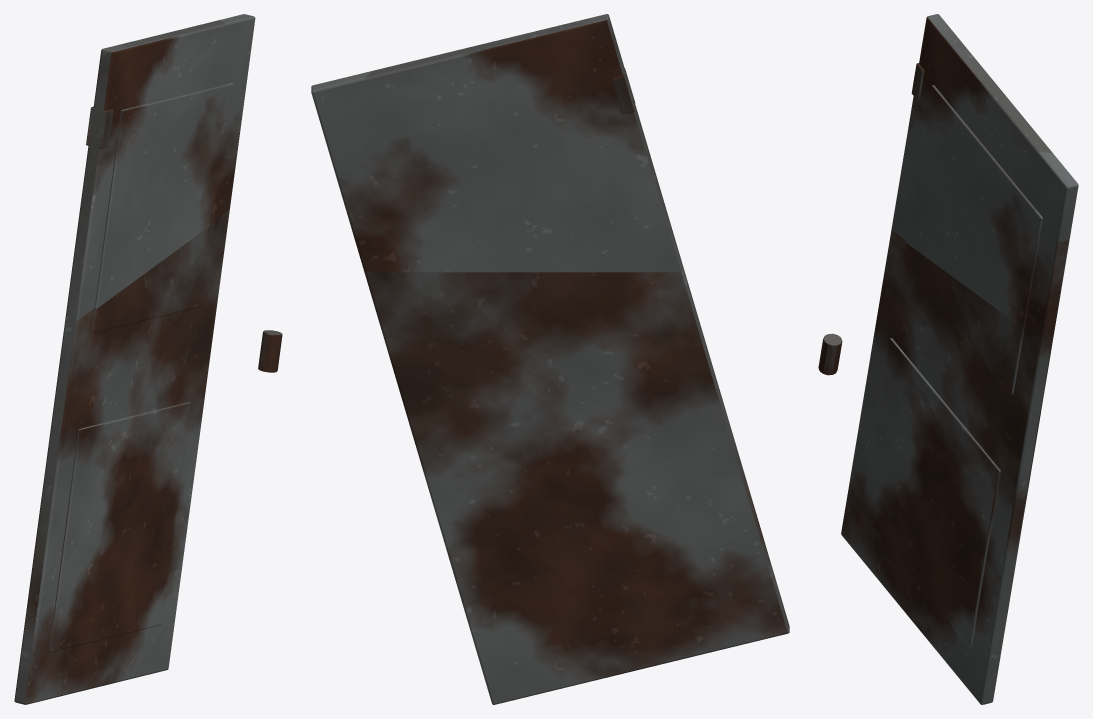
Rendered from BR03_broken_door_hanging_v2.glb.
3 views of the same model, side by side, from view 1: azimuth 30°, elevation 25°; view 2: azimuth 150°, elevation 25°; view 3: azimuth 270°, elevation 25° (orthographic). The views are drawn at different scales.
Visible parts, largest first — view 1: BR03_broken_door_hanging_v2; view 2: BR03_broken_door_hanging_v2; view 3: BR03_broken_door_hanging_v2.
Boxes of the visible parts, left/top/right/bottom form: BR03_broken_door_hanging_v2: left=14, top=14, right=282, bottom=704; BR03_broken_door_hanging_v2: left=311, top=14, right=789, bottom=704; BR03_broken_door_hanging_v2: left=818, top=14, right=1078, bottom=704.
Bounding box in the file's own units: 1.22 × 2.2 × 0.7991.
2 materials, 2 textured.
